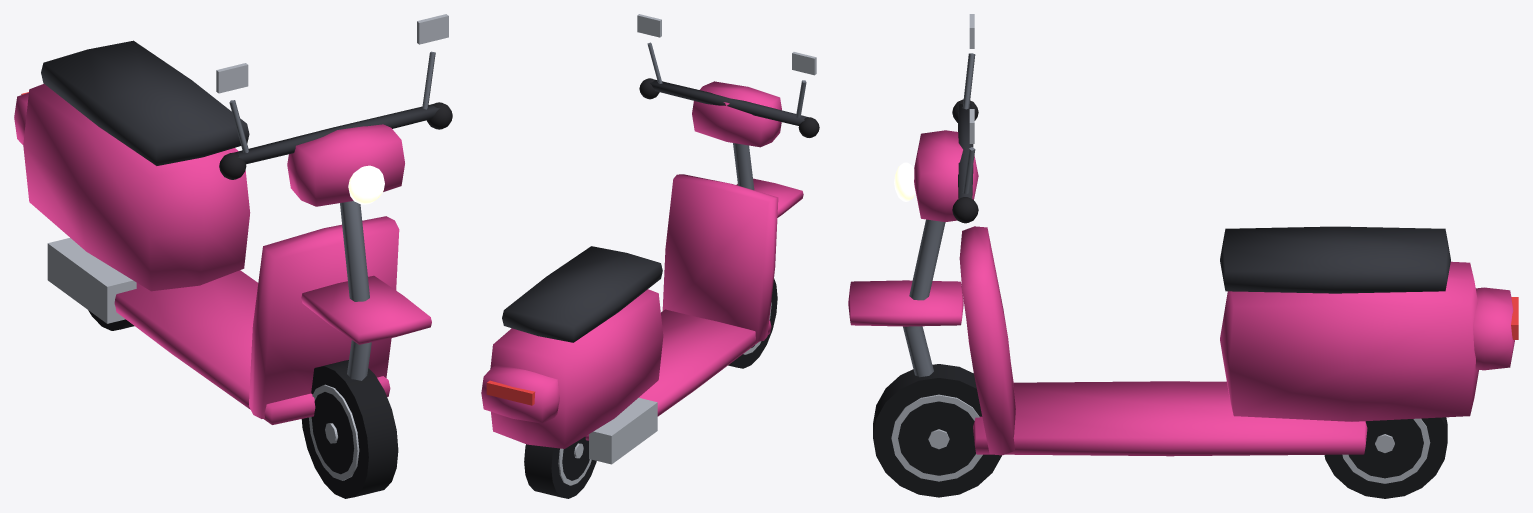
File: scooty.glb
3 views of the same model, side by side, from view 1: azimuth 30°, elevation 25°; view 2: azimuth 150°, elevation 25°; view 3: azimuth 270°, elevation 25° (orthographic). The views are drawn at different scales.
Parts seen in each view (by area): view 1: root; view 2: root; view 3: root.
Part boxes in pixels (bbox=[...]): root: bbox=[14, 14, 452, 498]; root: bbox=[481, 14, 819, 498]; root: bbox=[848, 14, 1518, 498].
Bounding box in the file's own units: 0.78 × 1.41 × 2.03.
